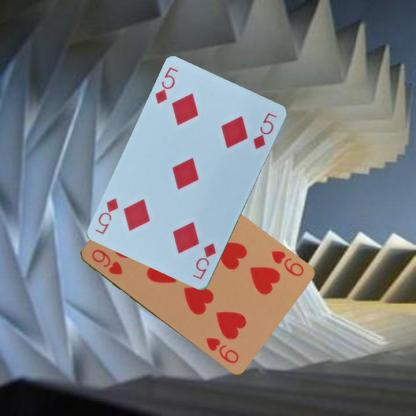5d: (152, 64, 180, 106), (190, 240, 218, 281)
9h: (86, 246, 124, 276), (268, 248, 305, 278)
